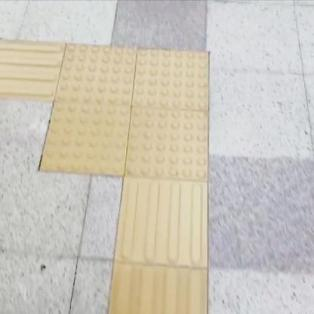Podoctatil: (26, 15, 228, 218), (107, 183, 210, 314)
